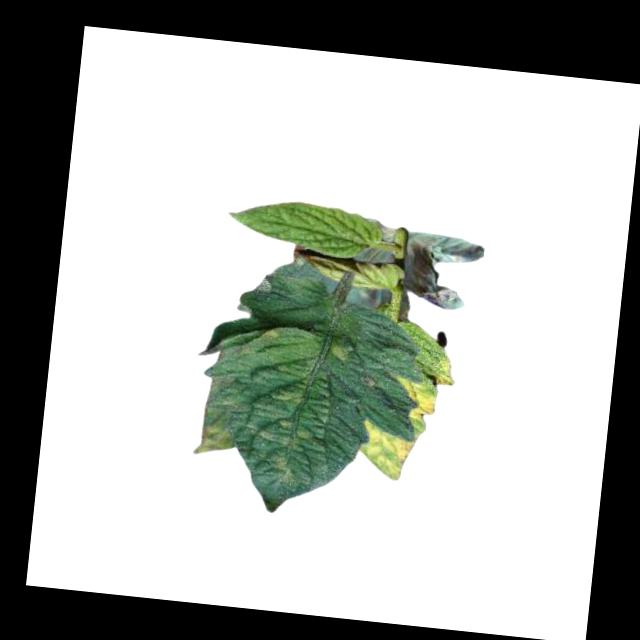Leaf_Mold: (254, 378, 318, 487), (355, 419, 417, 483), (389, 370, 440, 423), (188, 417, 241, 461), (328, 332, 363, 370), (262, 324, 281, 346)
